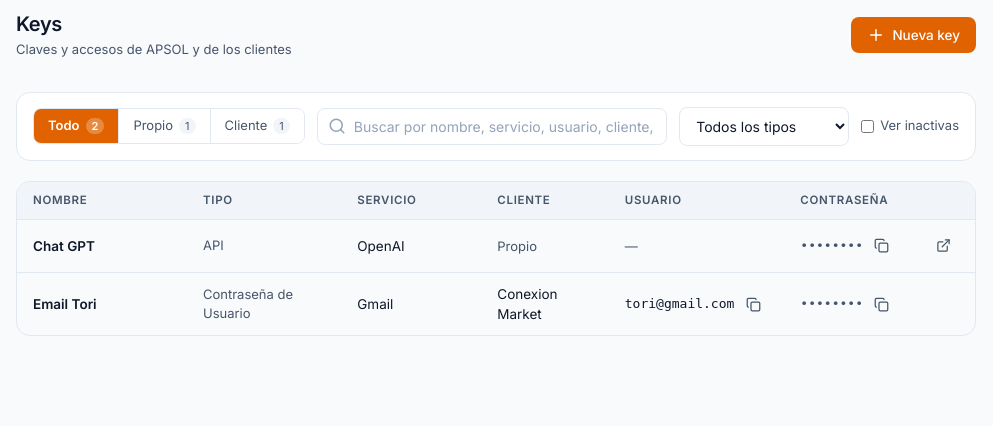
Test: Keys (lista) › "Ver inactivas" las muestra
Click the checkbox labelled "Ver inactivas" at (868,126), box [861,120,874,132]
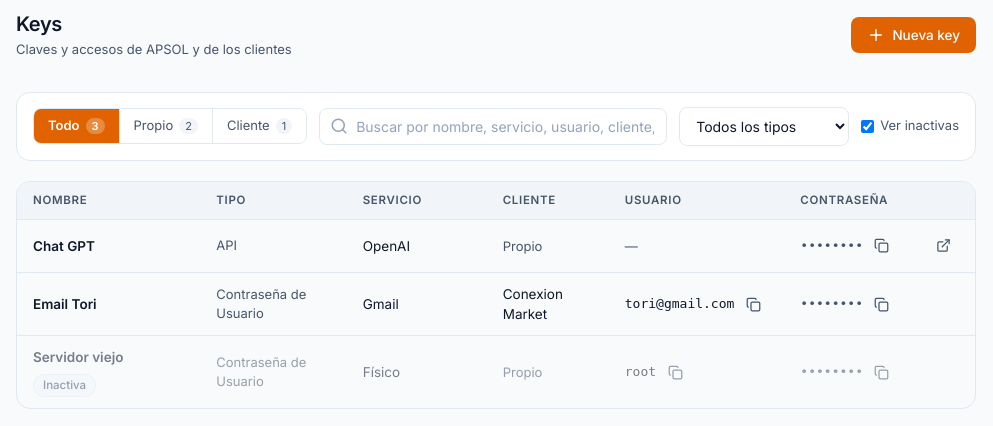
Result: the link "Servidor viejo" is shown at [33,347,123,368]
